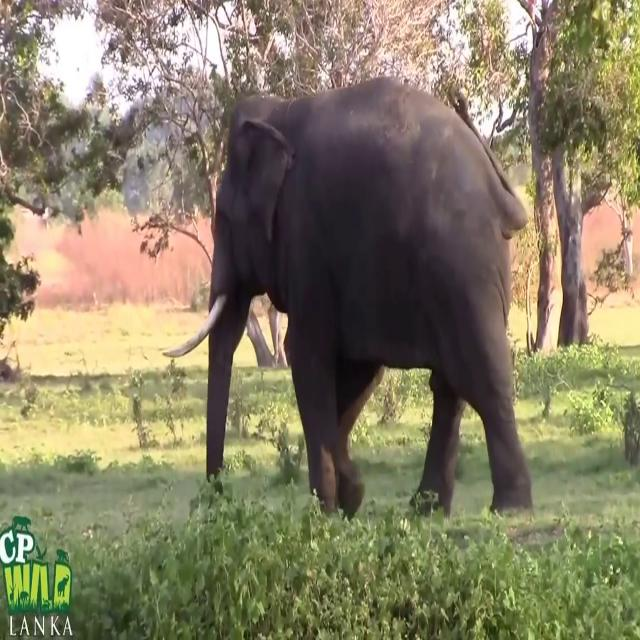Elephant: (161, 75, 534, 522)
